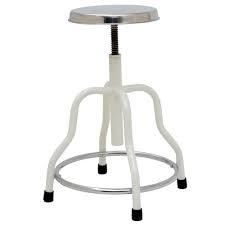stool: (42, 3, 187, 220)
